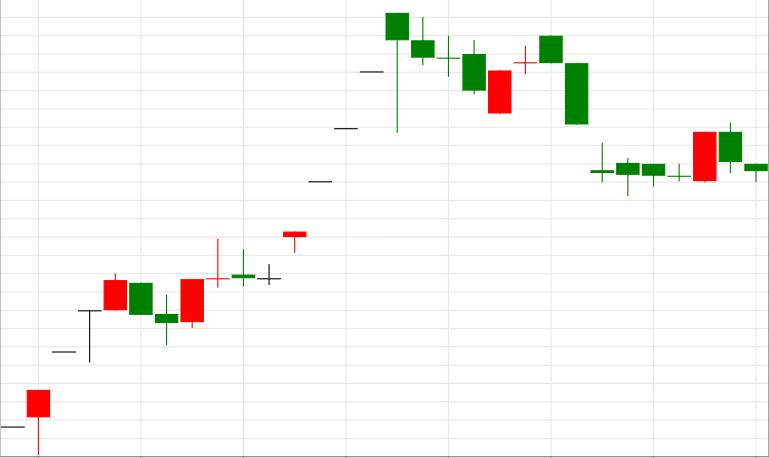hanging_man_fall: (155, 13, 409, 346)
